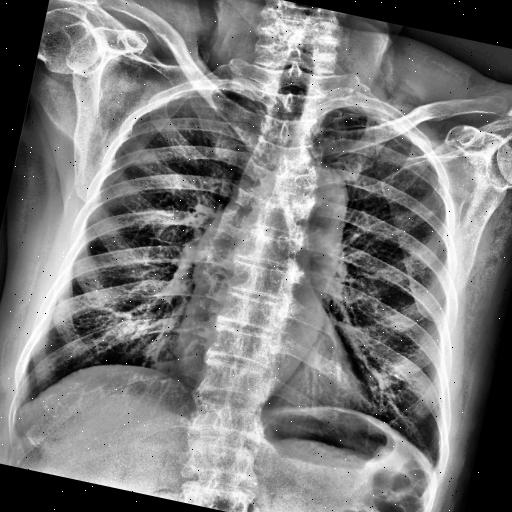0- Aortic enlargement: (268, 156, 355, 262), (266, 150, 356, 230), (279, 153, 357, 240)
11- Pleural thickening: (165, 67, 244, 116), (346, 102, 428, 146), (338, 100, 399, 124), (205, 84, 260, 104)
